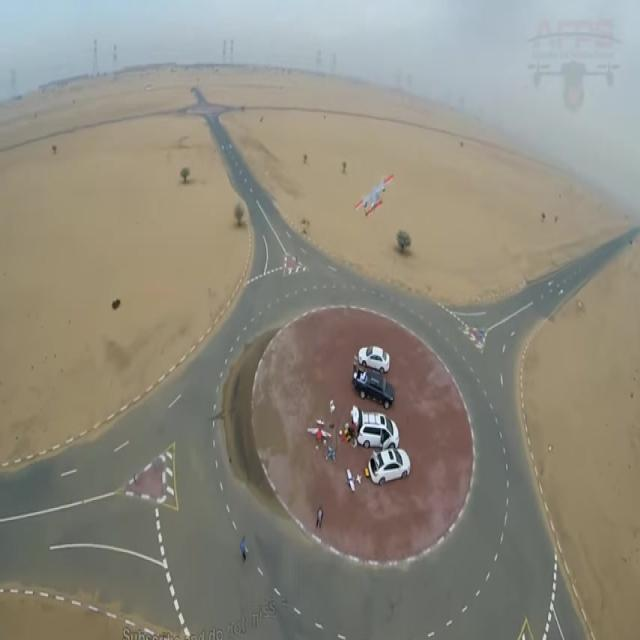iha: (355, 174, 393, 217), (307, 417, 332, 450), (346, 469, 361, 492), (322, 440, 327, 457)
